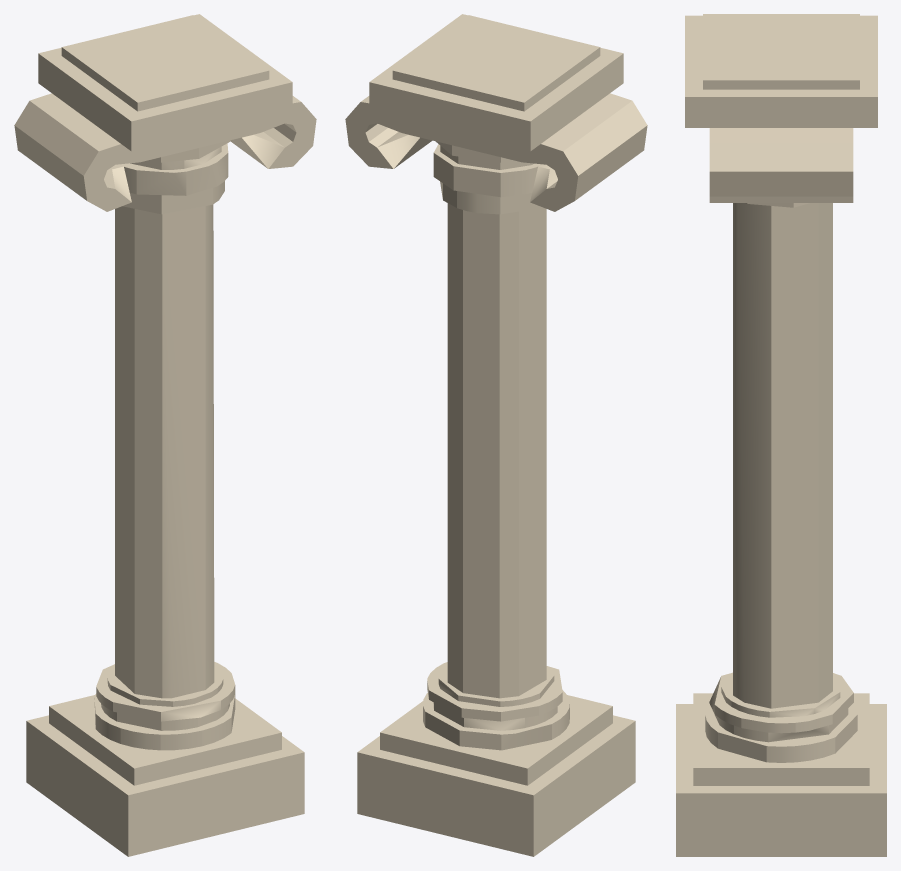
The model's file is Pillar.fbx.
3 renders of one model, left to right at view 1: azimuth 30°, elevation 25°; view 2: azimuth 150°, elevation 25°; view 3: azimuth 270°, elevation 25°, orthographic. The views are drawn at different scales.
Parts seen in each view (by area): view 1: Cube; view 2: Cube; view 3: Cube.
Boxes of the visible parts, left/top/right/bottom form: Cube: left=14, top=14, right=316, bottom=856; Cube: left=345, top=14, right=647, bottom=856; Cube: left=676, top=14, right=886, bottom=856.
Size of the model in its own units: 132 by 401 by 100.
